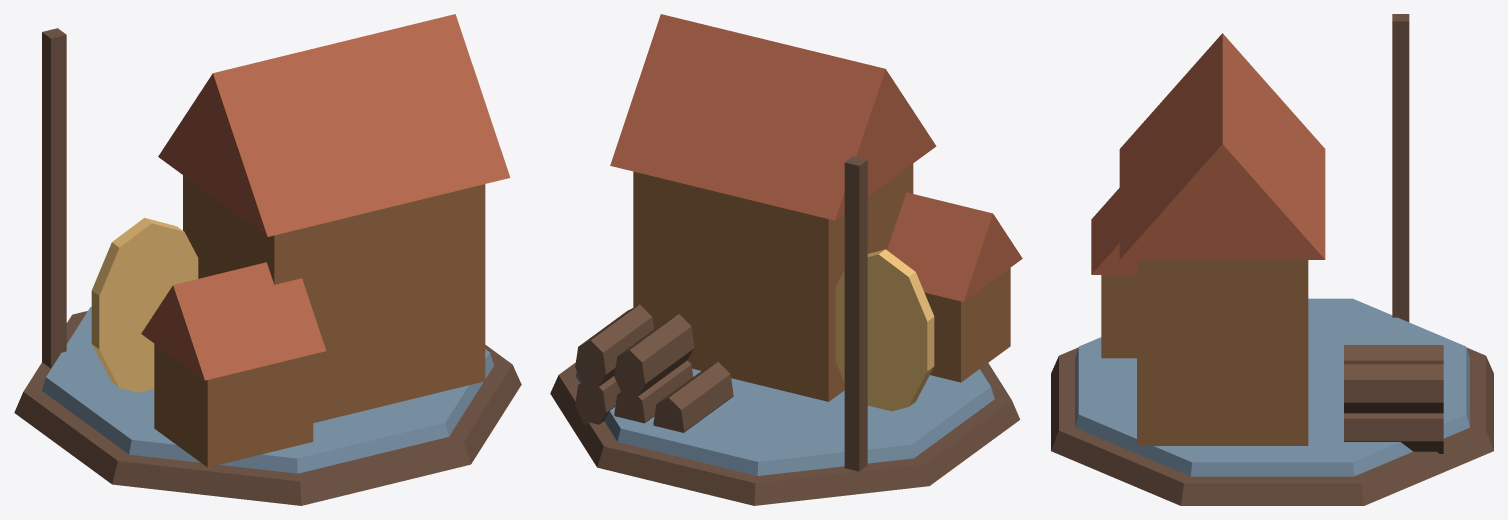
Rendered from Sawmill_3.fbx.
3 views of the same model, side by side, from view 1: azimuth 30°, elevation 25°; view 2: azimuth 150°, elevation 25°; view 3: azimuth 270°, elevation 25° (orthographic). The views are drawn at different scales.
Parts seen in each view (by area): view 1: Sawmill_3; view 2: Sawmill_3; view 3: Sawmill_3.
Boxes of the visible parts, bbox=[...] form: Sawmill_3: bbox=[14, 14, 521, 505]; Sawmill_3: bbox=[550, 14, 1022, 505]; Sawmill_3: bbox=[1051, 14, 1493, 505].
Bounding box in the file's own units: 2.9 × 2.47 × 2.9.
